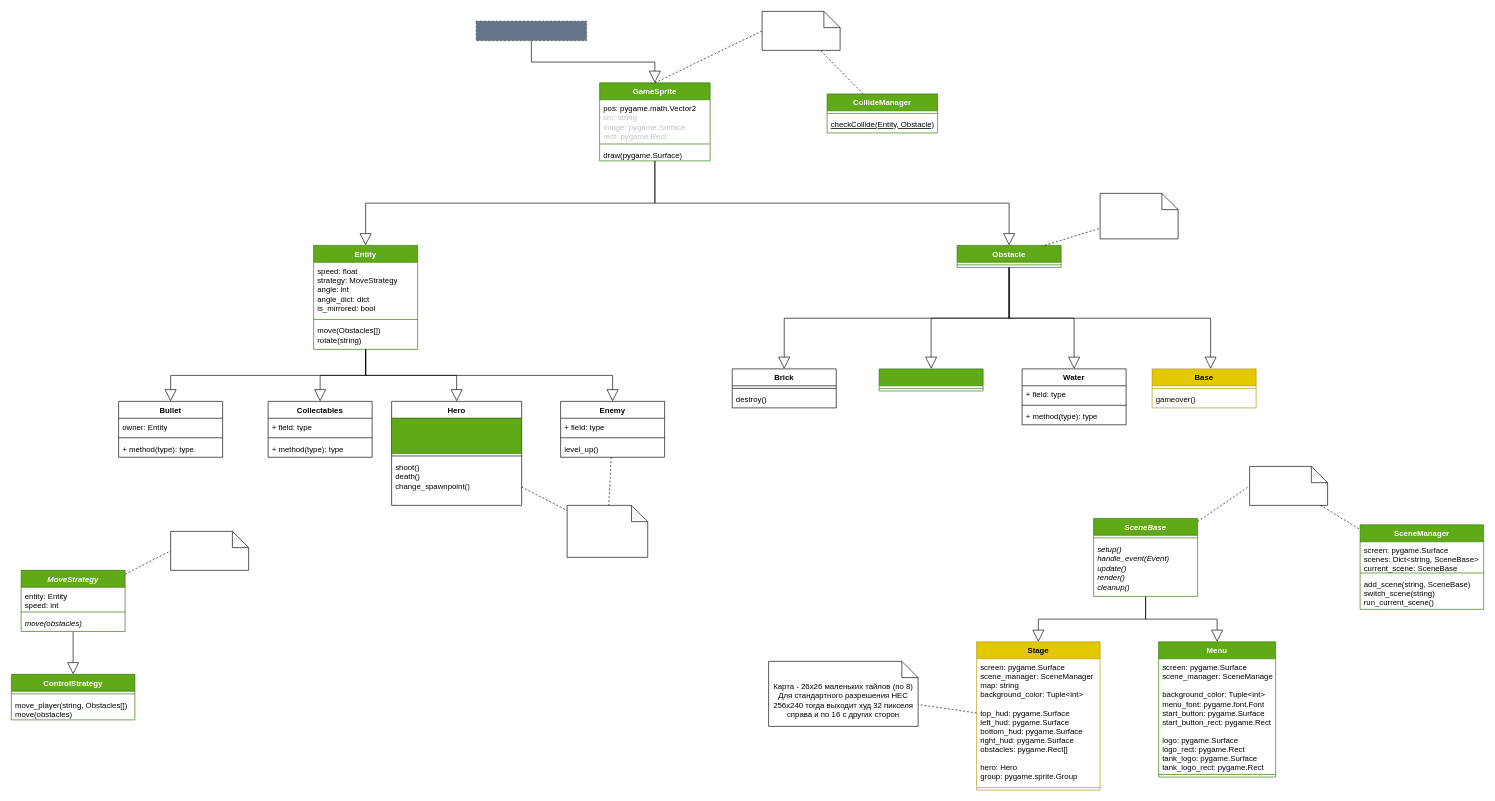
The diagram is 1495 pixels wide and 801 high, and some of its shapes have lost their labels. Here are the shapes that lost their labels. From the top down, the centre of each, then its label:
At point (531, 30): "pygame.sprite.Sprite".
At point (800, 30): "set_sprites.py".
At point (1138, 216): "просто объединяет препятствия".
At point (930, 379): "Wall".
At point (456, 435): "hp: int active_collectables: Collectables[] spawnpoint: pygame.math.Vector2".
At point (1288, 485): "scenes.py".
At point (209, 550): "strategies.py".
At point (607, 531): "возможно стоит добавить родителя Танк".
